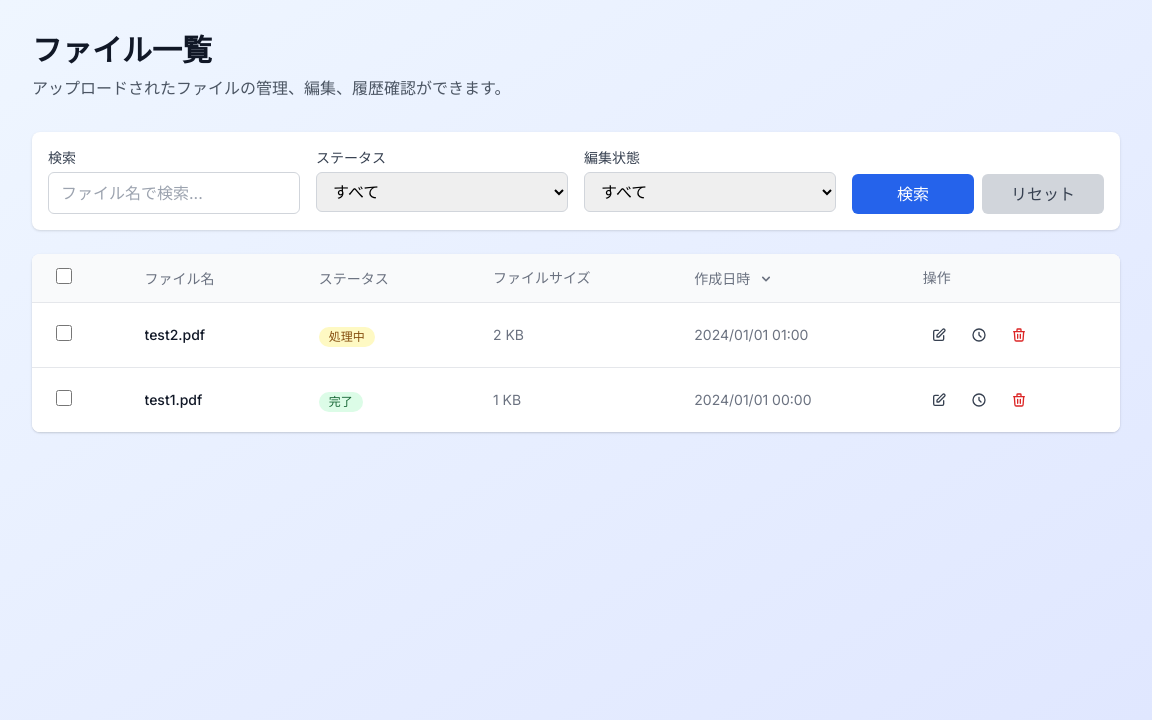
Test: FilesPage › handles file edit functionality
Expected: the text "test1.pdf" is shown, [144,391,202,408]
# 編集ボタンをクリック
What coordinates should you click on to do the following:
click the button named "test1.pdfを編集"
I would click on:
 (939, 400)
Its box is [923,384,955,416].
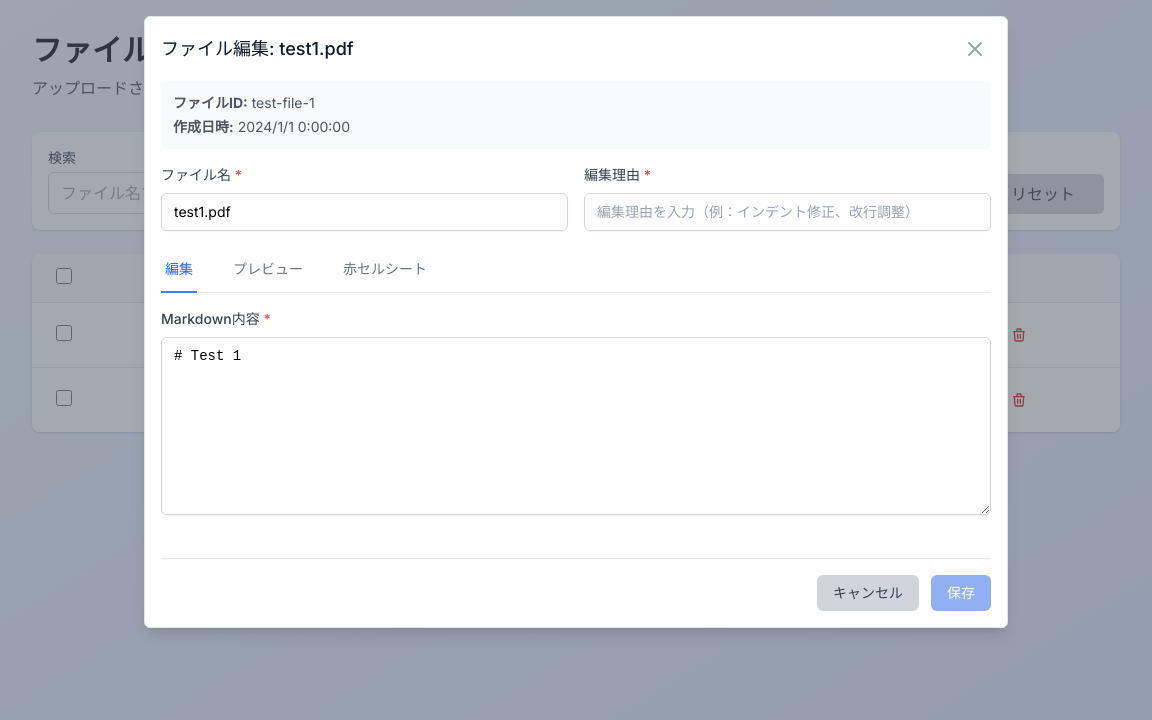
Expected: the element with test id "file-edit-modal" is shown
